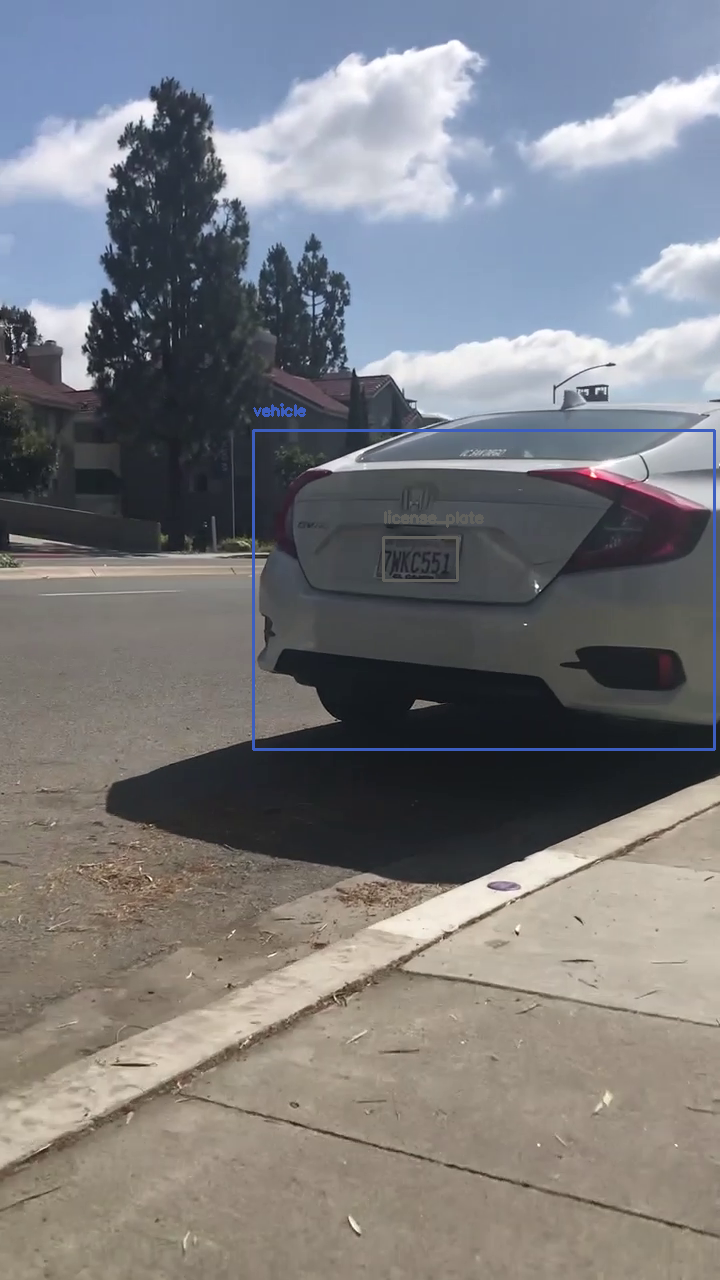license_plate: (383, 537, 457, 580)
vehicle: (253, 430, 714, 749)
